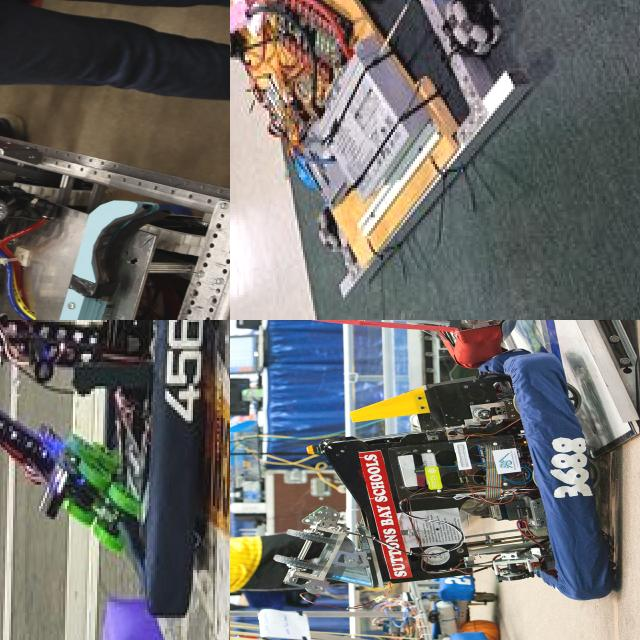FRC-Robots: (230, 0, 587, 320), (247, 358, 617, 604), (0, 320, 230, 607), (0, 86, 230, 320), (230, 575, 512, 640)
